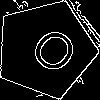O: (21, 24, 82, 84)
